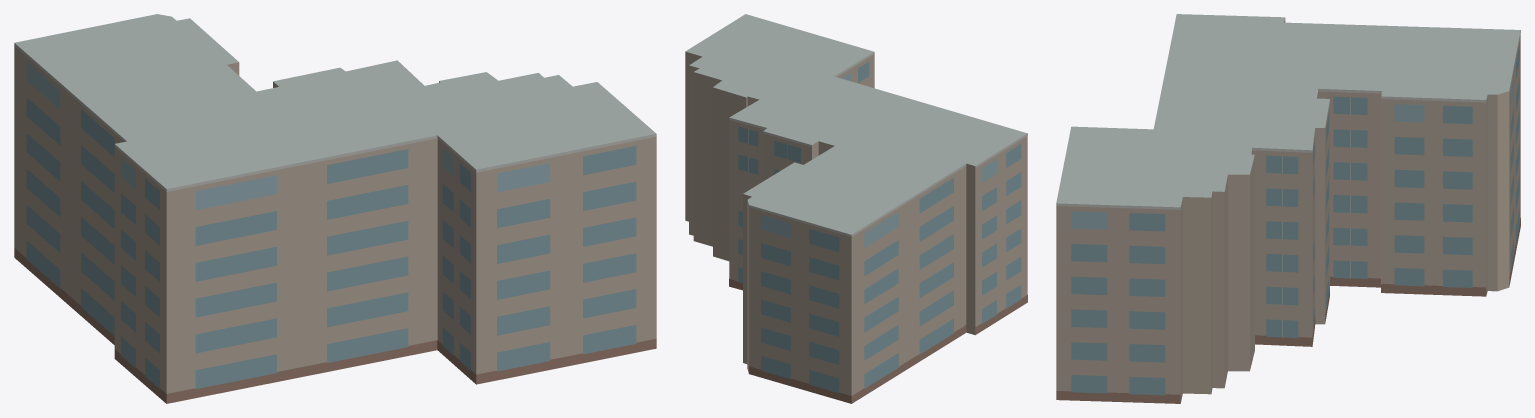
The model's file is survey-upis-32937039.glb.
The picture shows the model from 3 angles, left to right: view 1: azimuth 30°, elevation 25°; view 2: azimuth 150°, elevation 25°; view 3: azimuth 270°, elevation 25°; orthographic projection. The views are drawn at different scales.
Visible parts, largest first — view 1: survey-upis-32937039.tmp; view 2: survey-upis-32937039.tmp; view 3: survey-upis-32937039.tmp.
Boxes of the visible parts, x1,y1,x2,y2 form: survey-upis-32937039.tmp: (14, 14, 656, 403); survey-upis-32937039.tmp: (685, 14, 1027, 403); survey-upis-32937039.tmp: (1056, 14, 1520, 403).
Size of the model in its own units: 38.09 by 18.05 by 38.67.
